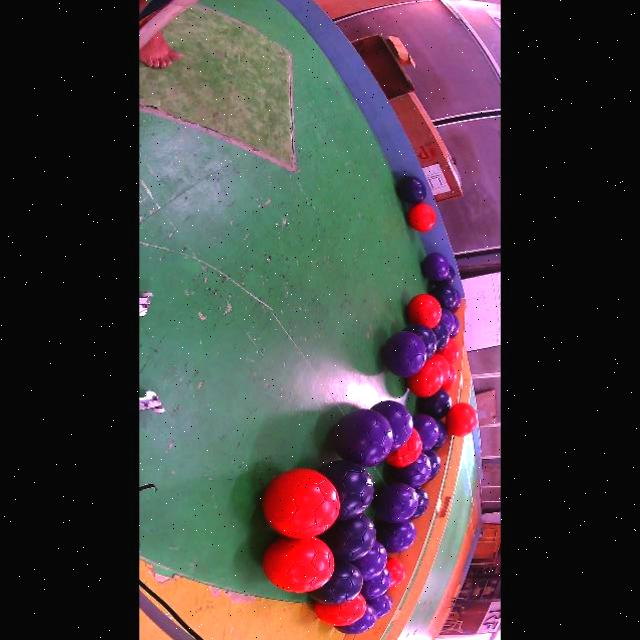B: (331, 409, 391, 467), (316, 460, 373, 520), (318, 514, 375, 562), (307, 560, 361, 606), (403, 324, 435, 360), (418, 389, 451, 419), (396, 177, 425, 204), (429, 285, 456, 310), (409, 487, 428, 520), (430, 419, 447, 451), (424, 450, 441, 481), (432, 323, 448, 351), (432, 266, 454, 286)
P: (370, 401, 412, 451), (381, 331, 425, 378), (373, 482, 417, 524), (350, 541, 386, 580), (391, 452, 430, 487), (375, 520, 415, 553), (334, 604, 376, 634), (359, 568, 390, 601), (412, 414, 438, 451), (420, 252, 448, 281), (365, 593, 391, 618), (439, 309, 454, 335), (449, 290, 461, 314), (449, 314, 459, 339)
R: (261, 468, 339, 539), (261, 536, 334, 593), (313, 594, 365, 626), (405, 359, 442, 398), (385, 429, 422, 467), (407, 294, 441, 329), (444, 403, 477, 437), (407, 203, 435, 232), (385, 558, 404, 589), (430, 354, 448, 384), (437, 339, 458, 364), (441, 364, 456, 390)
